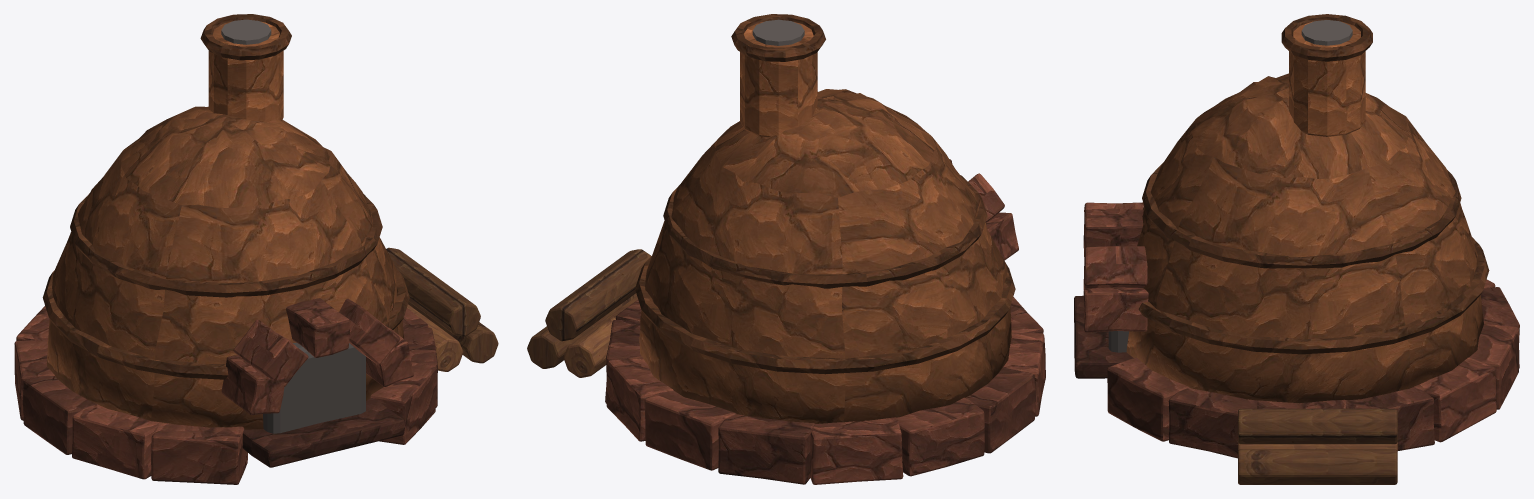
The model's file is kiln.glb.
3 views of the same model, side by side, from view 1: azimuth 30°, elevation 25°; view 2: azimuth 150°, elevation 25°; view 3: azimuth 270°, elevation 25° (orthographic). The views are drawn at different scales.
Parts seen in each view (by area): view 1: model; view 2: model; view 3: model.
Part boxes in pixels (x1,y1,x2,y2): model: (14,14,498,484); model: (527,14,1045,484); model: (1074,14,1519,484).
Bounding box in the file's own units: 1.57 × 1.24 × 1.4.
16 materials, 9 textured.
